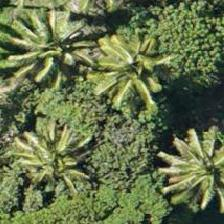coconut_tree: (13, 4, 103, 94), (82, 17, 172, 107), (8, 108, 98, 198), (143, 131, 223, 221)
